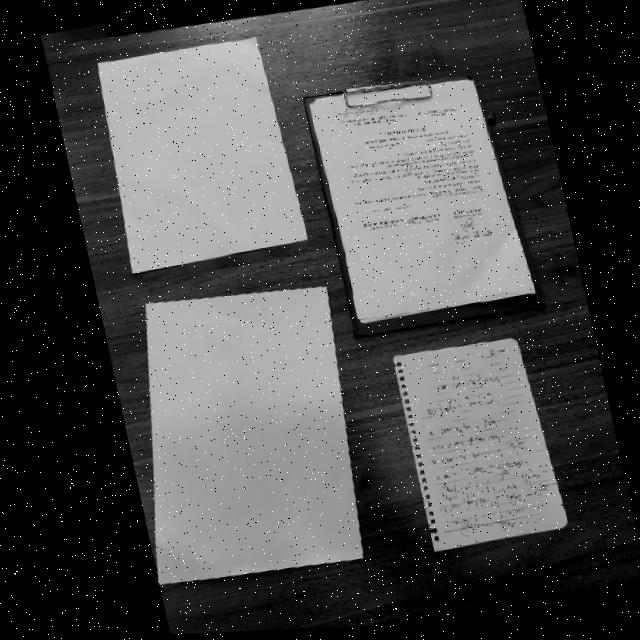document: (309, 80, 536, 324), (393, 336, 570, 551)
